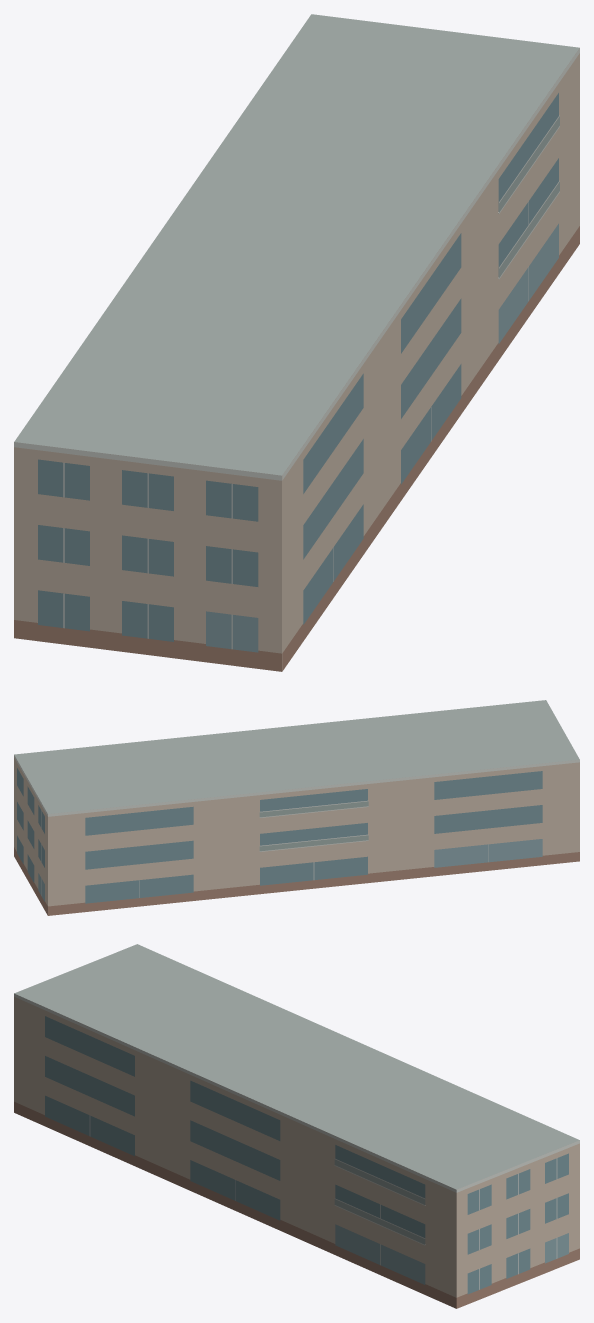
Rendered from survey-upis-32681433.glb.
3 renders of one model, top to bottom at view 1: azimuth 30°, elevation 25°; view 2: azimuth 150°, elevation 25°; view 3: azimuth 270°, elevation 25°, orthographic. The views are drawn at different scales.
Parts seen in each view (by area): view 1: survey-upis-32681433.tmp; view 2: survey-upis-32681433.tmp; view 3: survey-upis-32681433.tmp.
Boxes of the visible parts, left/top/right/bottom form: survey-upis-32681433.tmp: left=14, top=14, right=579, bottom=671; survey-upis-32681433.tmp: left=14, top=700, right=579, bottom=915; survey-upis-32681433.tmp: left=14, top=944, right=579, bottom=1308.
Bounding box in the file's own units: 40.43 × 9.15 × 39.36.
